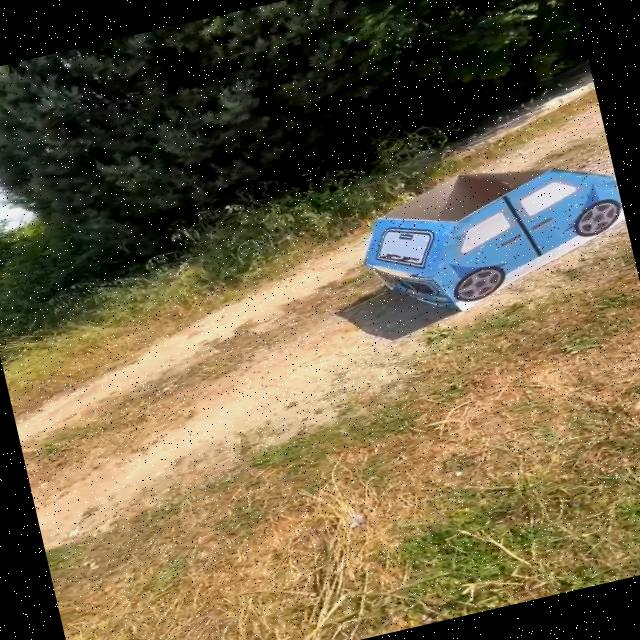blue_car: (326, 122, 640, 350)
